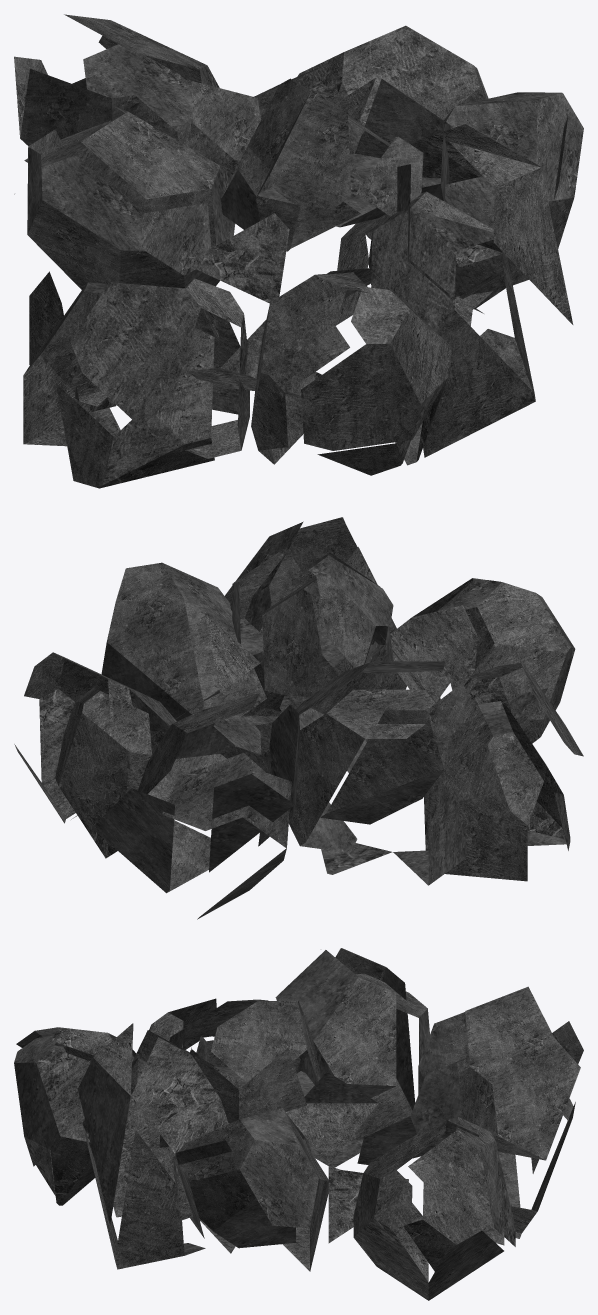
File: Stone13.obj
3 renders of one model, top to bottom at view 1: azimuth 30°, elevation 25°; view 2: azimuth 150°, elevation 25°; view 3: azimuth 270°, elevation 25°, orthographic. The views are drawn at different scales.
Visible parts, largest first — view 1: Object015; view 2: Object015; view 3: Object015.
Boxes of the visible parts, bbox=[...] form: Object015: bbox=[14, 14, 583, 488]; Object015: bbox=[14, 517, 583, 919]; Object015: bbox=[14, 948, 583, 1300].
Bounding box in the file's own units: 239 × 130 × 273.
Materials: 1 (1 with a texture image).
